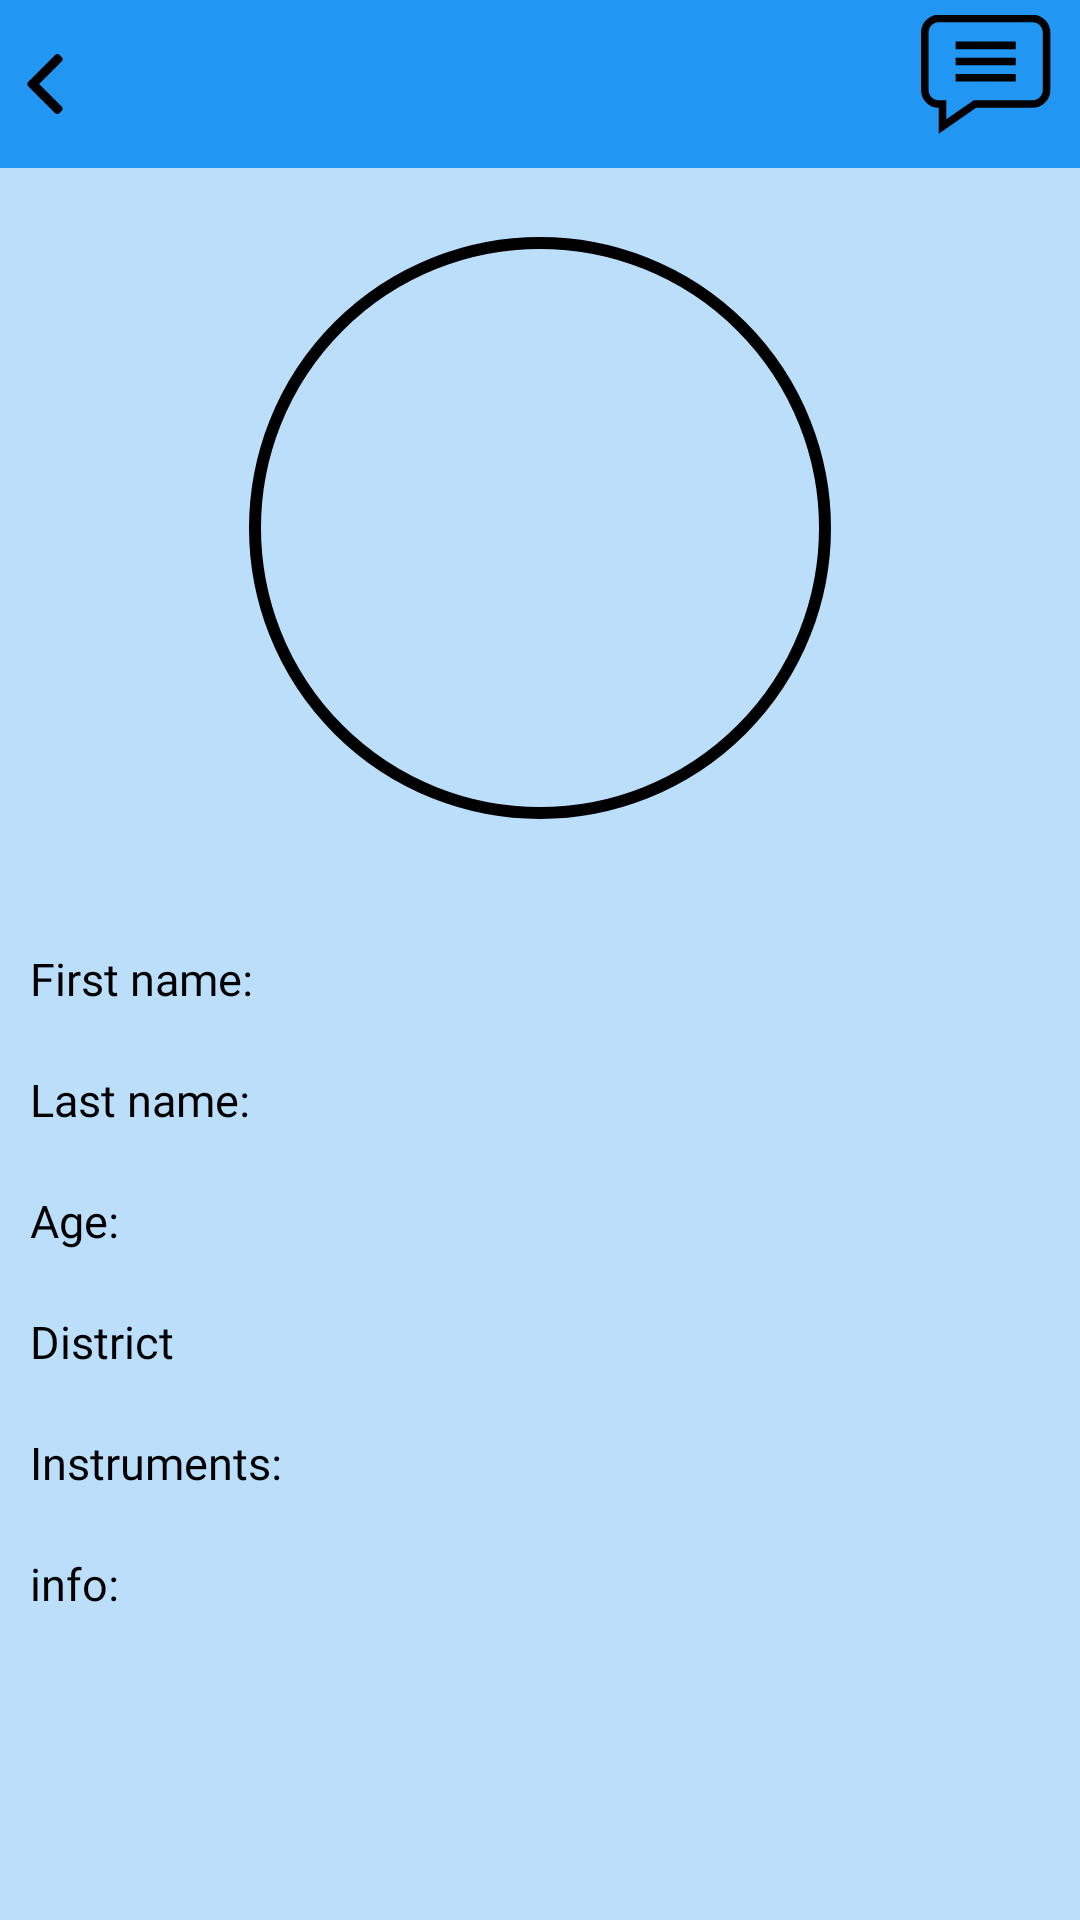

Where to tap for icons on this 1080 x 1920 app screen, as point (x, y):
message: point (986, 74)
return btn: point (45, 84)
